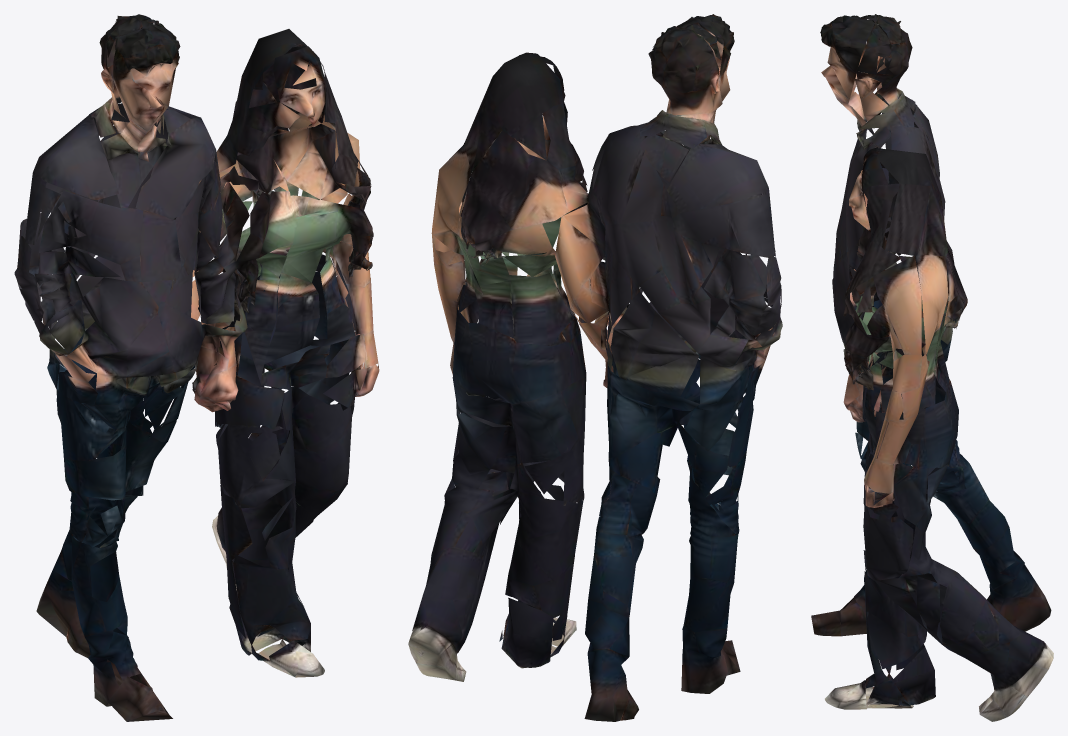
File: ppl_couple.glb
The picture shows the model from 3 angles, left to right: view 1: azimuth 30°, elevation 25°; view 2: azimuth 150°, elevation 25°; view 3: azimuth 270°, elevation 25°; orthographic projection. The views are drawn at different scales.
Visible parts, largest first — view 1: Object_5, Object_8, Object_6, Object_7; view 2: Object_7, Object_6, Object_8, Object_5; view 3: Object_7, Object_6, Object_8, Object_5.
Part boxes in pixels (x1,y1,x2,y2): Object_5: [34, 20, 379, 721]; Object_8: [14, 14, 378, 706]; Object_6: [25, 17, 378, 690]; Object_7: [14, 76, 373, 657]; Object_7: [408, 104, 780, 721]; Object_6: [432, 22, 776, 668]; Object_8: [450, 29, 781, 693]; Object_5: [450, 14, 782, 675]; Object_7: [863, 105, 1053, 721]; Object_6: [840, 14, 964, 705]; Object_8: [845, 15, 915, 708]; Object_5: [811, 15, 930, 709].
Bounding box in the file's own units: 1.07 × 2 × 0.7089.
Materials: 1 (1 with a texture image).
